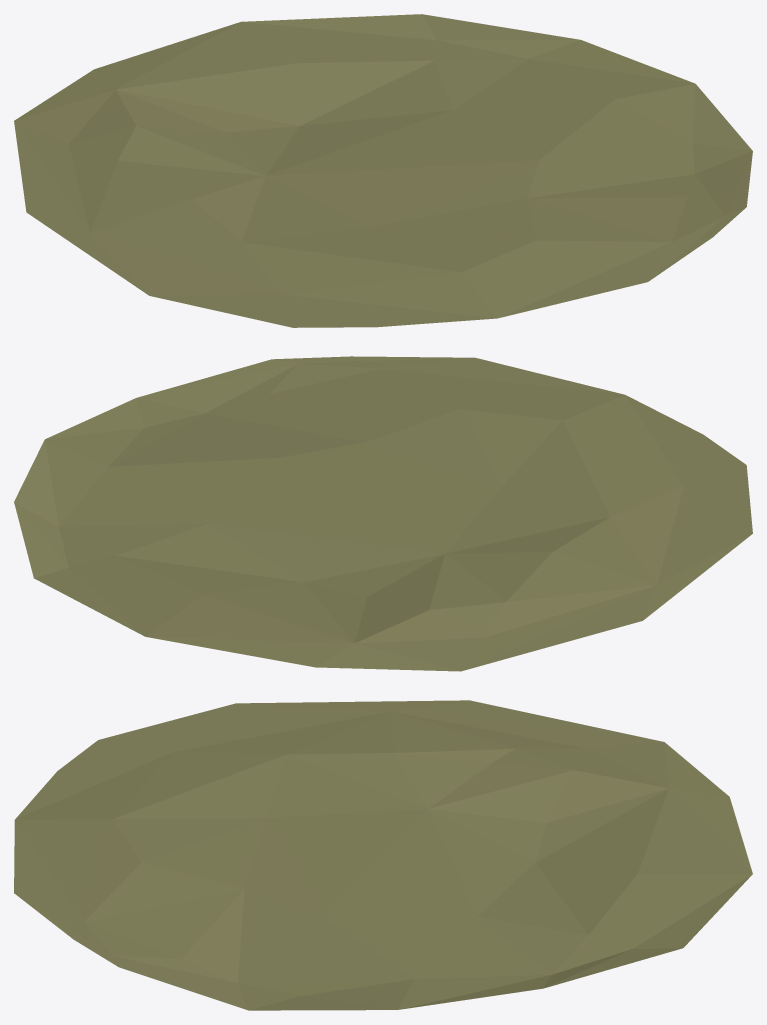
The model's file is Green_soop.fbx.
3 views of the same model, one above another, from view 1: azimuth 30°, elevation 25°; view 2: azimuth 150°, elevation 25°; view 3: azimuth 270°, elevation 25° (orthographic).
Parts seen in each view (by area): view 1: Green_soop; view 2: Green_soop; view 3: Green_soop.
Boxes of the visible parts, <box> form: Green_soop: <box>14,14,752,327</box>; Green_soop: <box>14,356,752,671</box>; Green_soop: <box>14,700,752,1010</box>.
Size of the model in its own units: 0.7333 by 0.0247 by 0.7385.
